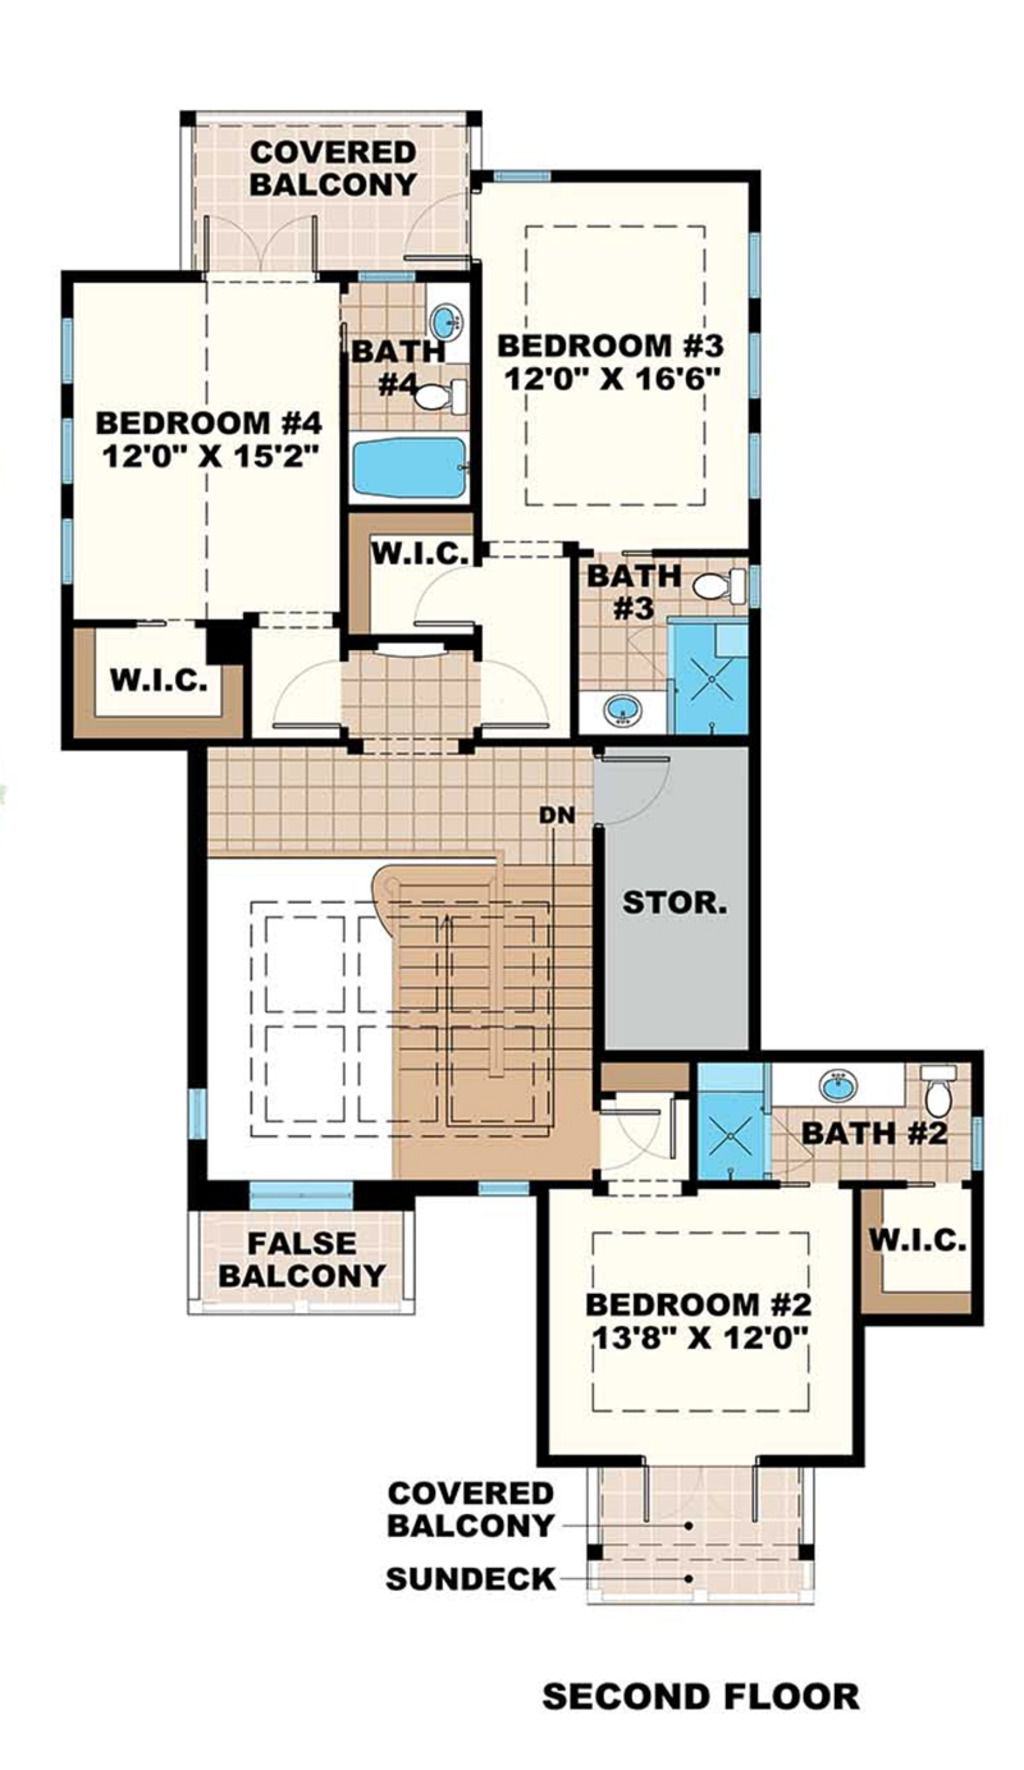door: (201, 211, 327, 282), (469, 656, 557, 731), (269, 658, 339, 739), (405, 562, 480, 633), (407, 190, 475, 267), (592, 755, 670, 822)
large_sink: (404, 371, 473, 422), (681, 562, 750, 611), (908, 1064, 961, 1121)
small_sink: (757, 1061, 903, 1107), (578, 686, 663, 739)
stairs: (371, 856, 597, 1178)
tub: (339, 425, 471, 511)
windows: (52, 311, 80, 594), (740, 224, 766, 503), (230, 1179, 361, 1217)
